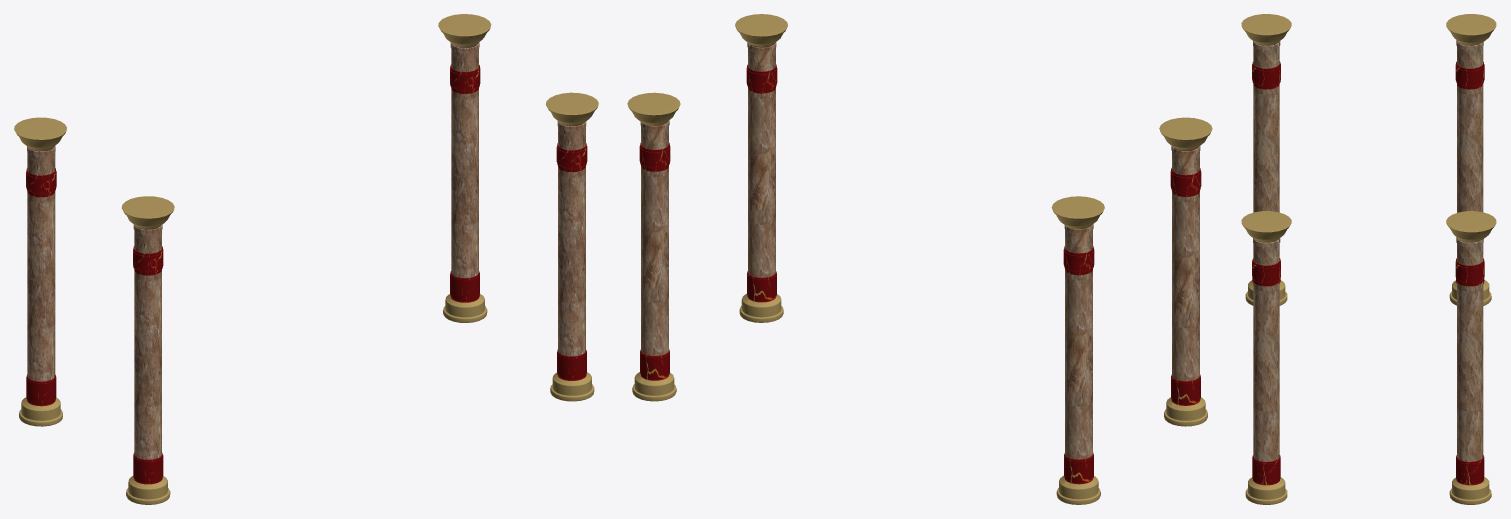
Rendered from pillars.gltf.
The picture shows the model from 3 angles, left to right: view 1: azimuth 30°, elevation 25°; view 2: azimuth 150°, elevation 25°; view 3: azimuth 270°, elevation 25°; orthographic projection. The views are drawn at different scales.
Visible parts, largest first — view 1: XI_TOG_RightWall.Shape_XI_TOG_Wall_RightWall_Mat_0.029, XI_TOG_RightWall.Shape_XI_TOG_Wall_RightWall_Mat_0.011, XI_TOG_RightWall.Shape_XI_TOG_Wall_RightWall_Mat_0.015, XI_TOG_RightWall.Shape_XI_TOG_Wall_RightWall_Mat_0.016, XI_TOG_RightWall.Shape_XI_TOG_Wall_RightWall_Mat_0.022, XI_TOG_RightWall.Shape_XI_TOG_Wall_RightWall_Mat_0.001, XI_TOG_RightWall.Shape_XI_TOG_Wall_RightWall_Mat_0.005, XI_TOG_RightWall.Shape_XI_TOG_Wall_RightWall_Mat_0.017, XI_TOG_RightWall.Shape_XI_TOG_Wall_RightWall_Mat_0.021, XI_TOG_RightWall.Shape_XI_TOG_Wall_RightWall_Mat_0.002, XI_TOG_RightWall.Shape_XI_TOG_Wall_RightWall_Mat_0.020, XI_TOG_RightWall.Shape_XI_TOG_Wall_RightWall_Mat_0.004 (+8 smaller); view 2: XI_TOG_RightWall.Shape_XI_TOG_Wall_RightWall_Mat_0.015, XI_TOG_RightWall.Shape_XI_TOG_Wall_RightWall_Mat_0.016, XI_TOG_RightWall.Shape_XI_TOG_Wall_RightWall_Mat_0.011, XI_TOG_RightWall.Shape_XI_TOG_Wall_RightWall_Mat_0.029, XI_TOG_RightWall.Shape_XI_TOG_Wall_RightWall_Mat_0.017, XI_TOG_RightWall.Shape_XI_TOG_Wall_RightWall_Mat_0.001, XI_TOG_RightWall.Shape_XI_TOG_Wall_RightWall_Mat_0.005, XI_TOG_RightWall.Shape_XI_TOG_Wall_RightWall_Mat_0.022, XI_TOG_RightWall.Shape_XI_TOG_Wall_RightWall_Mat_0.004, XI_TOG_RightWall.Shape_XI_TOG_Wall_RightWall_Mat_0.020, XI_TOG_RightWall.Shape_XI_TOG_Wall_RightWall_Mat_0.021, XI_TOG_RightWall.Shape_XI_TOG_Wall_RightWall_Mat_0.002 (+8 smaller); view 3: XI_TOG_RightWall.Shape_XI_TOG_Wall_RightWall_Mat_0.011, XI_TOG_RightWall.Shape_XI_TOG_Wall_RightWall_Mat_0.015, XI_TOG_RightWall.Shape_XI_TOG_Wall_RightWall_Mat_0.016, XI_TOG_RightWall.Shape_XI_TOG_Wall_RightWall_Mat_0.029, XI_TOG_RightWall.Shape_XI_TOG_Wall_RightWall_Mat_0.005, XI_TOG_RightWall.Shape_XI_TOG_Wall_RightWall_Mat_0.001, XI_TOG_RightWall.Shape_XI_TOG_Wall_RightWall_Mat_0.022, XI_TOG_RightWall.Shape_XI_TOG_Wall_RightWall_Mat_0.017, XI_TOG_RightWall.Shape_XI_TOG_Wall_RightWall_Mat_0.004, XI_TOG_RightWall.Shape_XI_TOG_Wall_RightWall_Mat_0.002, XI_TOG_RightWall.Shape_XI_TOG_Wall_RightWall_Mat_0.012, XI_TOG_RightWall.Shape_XI_TOG_Wall_RightWall_Mat_0.003 (+6 smaller).
Part boxes in pixels (x1,y1,x2,y2): XI_TOG_RightWall.Shape_XI_TOG_Wall_RightWall_Mat_0.029: (27, 145, 55, 381); XI_TOG_RightWall.Shape_XI_TOG_Wall_RightWall_Mat_0.011: (450, 42, 479, 278); XI_TOG_RightWall.Shape_XI_TOG_Wall_RightWall_Mat_0.015: (557, 121, 586, 356); XI_TOG_RightWall.Shape_XI_TOG_Wall_RightWall_Mat_0.016: (133, 224, 162, 459); XI_TOG_RightWall.Shape_XI_TOG_Wall_RightWall_Mat_0.022: (14, 117, 66, 150); XI_TOG_RightWall.Shape_XI_TOG_Wall_RightWall_Mat_0.001: (438, 14, 491, 46); XI_TOG_RightWall.Shape_XI_TOG_Wall_RightWall_Mat_0.005: (546, 92, 598, 125); XI_TOG_RightWall.Shape_XI_TOG_Wall_RightWall_Mat_0.017: (121, 196, 174, 228); XI_TOG_RightWall.Shape_XI_TOG_Wall_RightWall_Mat_0.021: (126, 476, 170, 504); XI_TOG_RightWall.Shape_XI_TOG_Wall_RightWall_Mat_0.002: (550, 372, 594, 401); XI_TOG_RightWall.Shape_XI_TOG_Wall_RightWall_Mat_0.020: (19, 397, 62, 426); XI_TOG_RightWall.Shape_XI_TOG_Wall_RightWall_Mat_0.004: (443, 294, 487, 322); XI_TOG_RightWall.Shape_XI_TOG_Wall_RightWall_Mat_0.015: (747, 42, 776, 277); XI_TOG_RightWall.Shape_XI_TOG_Wall_RightWall_Mat_0.016: (1171, 146, 1200, 381); XI_TOG_RightWall.Shape_XI_TOG_Wall_RightWall_Mat_0.011: (640, 120, 669, 355); XI_TOG_RightWall.Shape_XI_TOG_Wall_RightWall_Mat_0.029: (1064, 224, 1093, 459); XI_TOG_RightWall.Shape_XI_TOG_Wall_RightWall_Mat_0.017: (1159, 117, 1212, 150); XI_TOG_RightWall.Shape_XI_TOG_Wall_RightWall_Mat_0.001: (627, 92, 680, 125); XI_TOG_RightWall.Shape_XI_TOG_Wall_RightWall_Mat_0.005: (735, 14, 787, 46); XI_TOG_RightWall.Shape_XI_TOG_Wall_RightWall_Mat_0.022: (1051, 196, 1104, 228); XI_TOG_RightWall.Shape_XI_TOG_Wall_RightWall_Mat_0.004: (632, 372, 676, 401); XI_TOG_RightWall.Shape_XI_TOG_Wall_RightWall_Mat_0.020: (1056, 475, 1100, 504); XI_TOG_RightWall.Shape_XI_TOG_Wall_RightWall_Mat_0.021: (1164, 397, 1207, 426); XI_TOG_RightWall.Shape_XI_TOG_Wall_RightWall_Mat_0.002: (739, 293, 783, 322); XI_TOG_RightWall.Shape_XI_TOG_Wall_RightWall_Mat_0.011: (1456, 237, 1483, 461); XI_TOG_RightWall.Shape_XI_TOG_Wall_RightWall_Mat_0.015: (1253, 238, 1280, 461); XI_TOG_RightWall.Shape_XI_TOG_Wall_RightWall_Mat_0.016: (1253, 41, 1280, 212); XI_TOG_RightWall.Shape_XI_TOG_Wall_RightWall_Mat_0.029: (1456, 40, 1483, 212); XI_TOG_RightWall.Shape_XI_TOG_Wall_RightWall_Mat_0.005: (1241, 211, 1291, 242); XI_TOG_RightWall.Shape_XI_TOG_Wall_RightWall_Mat_0.001: (1446, 211, 1496, 242); XI_TOG_RightWall.Shape_XI_TOG_Wall_RightWall_Mat_0.022: (1446, 14, 1496, 44); XI_TOG_RightWall.Shape_XI_TOG_Wall_RightWall_Mat_0.017: (1241, 14, 1291, 44); XI_TOG_RightWall.Shape_XI_TOG_Wall_RightWall_Mat_0.004: (1449, 477, 1491, 504); XI_TOG_RightWall.Shape_XI_TOG_Wall_RightWall_Mat_0.002: (1245, 477, 1287, 504); XI_TOG_RightWall.Shape_XI_TOG_Wall_RightWall_Mat_0.012: (1252, 455, 1280, 485); XI_TOG_RightWall.Shape_XI_TOG_Wall_RightWall_Mat_0.003: (1456, 455, 1484, 485).
Size of the model in its own units: 26.78 by 15.74 by 13.22.
20 materials, 20 textured.
